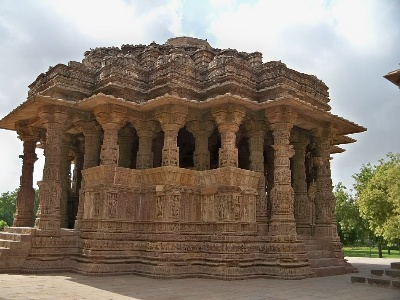mandapa: (10, 62, 365, 208)
